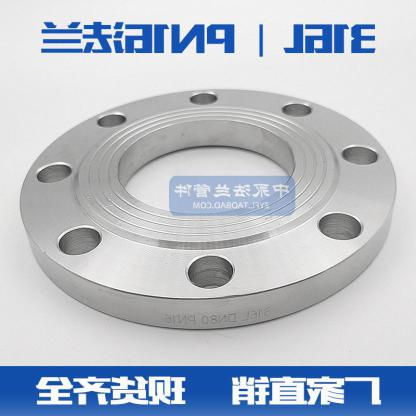FOD: (18, 84, 399, 334)
